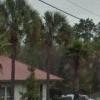Palm tree: (4, 0, 79, 80)
